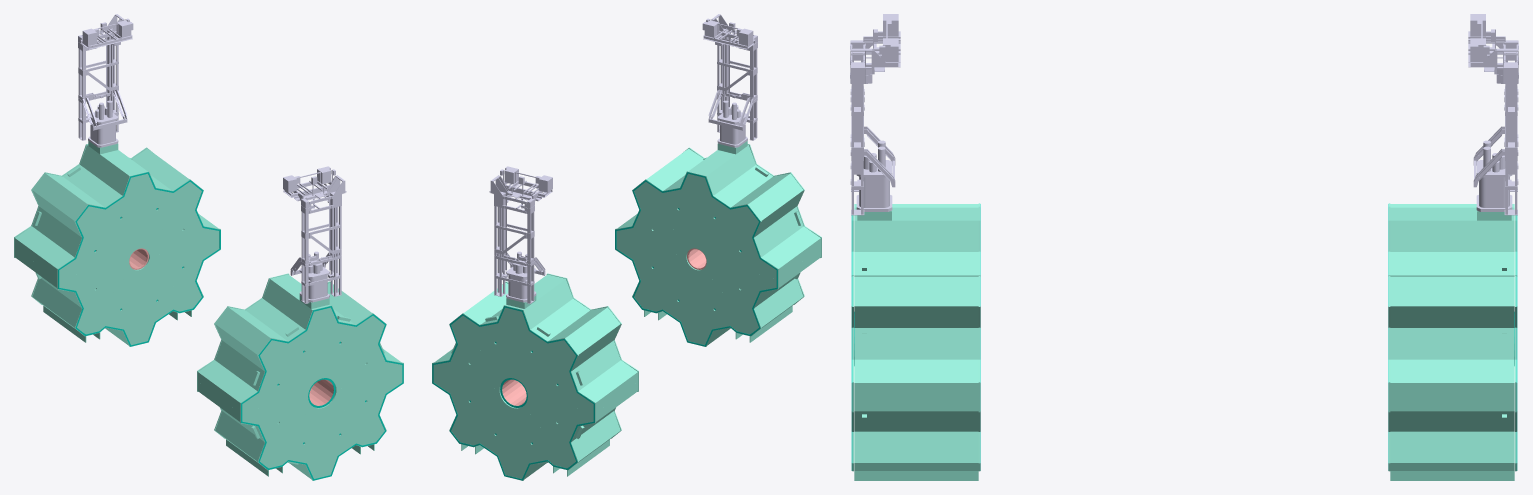
Rendered from VR-Magnets.glb.
3 renders of one model, left to right at view 1: azimuth 30°, elevation 25°; view 2: azimuth 150°, elevation 25°; view 3: azimuth 270°, elevation 25°, orthographic. The views are drawn at different scales.
Parts seen in each view (by area): view 1: S__0536A8B8-003, S_Mesh_0-119, S__05CE1148-003, S__1F0C5598-003; view 2: S__0536A8B8-003, S_Mesh_0-119, S__05CE1148-003, S__1F0C5598-003; view 3: S__0536A8B8-003, S_Mesh_0-119, S__05CE1148-003.
Boxes of the visible parts, <box> form: S__0536A8B8-003: <box>14,141,403,480</box>; S_Mesh_0-119: <box>78,14,346,303</box>; S__05CE1148-003: <box>58,172,403,480</box>; S__1F0C5598-003: <box>129,248,333,405</box>; S__0536A8B8-003: <box>432,141,821,480</box>; S_Mesh_0-119: <box>489,14,757,303</box>; S__05CE1148-003: <box>432,172,777,480</box>; S__1F0C5598-003: <box>502,248,706,405</box>; S__0536A8B8-003: <box>852,203,1516,480</box>; S_Mesh_0-119: <box>850,14,1518,215</box>; S__05CE1148-003: <box>851,204,1517,470</box>.
Size of the model in its own units: 10.68 by 18.47 by 25.85.
